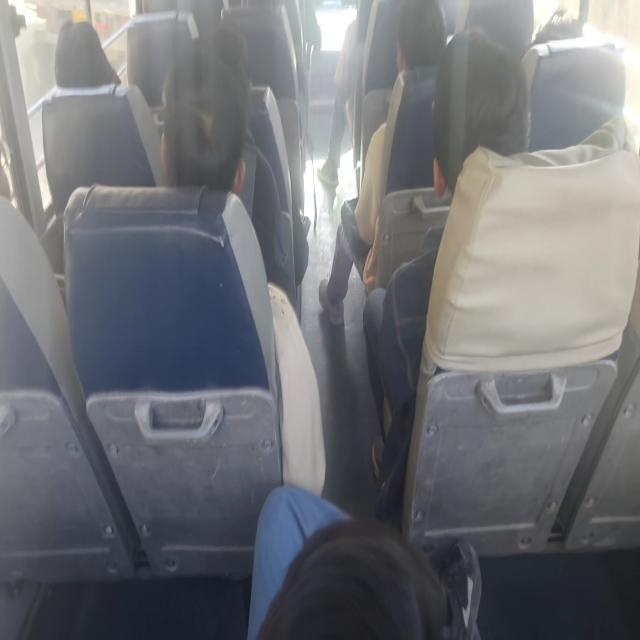person: (362, 29, 530, 518), (159, 26, 326, 496), (318, 0, 447, 326), (159, 25, 295, 297), (247, 484, 482, 639), (41, 18, 160, 214), (317, 0, 399, 188), (160, 32, 249, 193), (52, 18, 121, 94)
